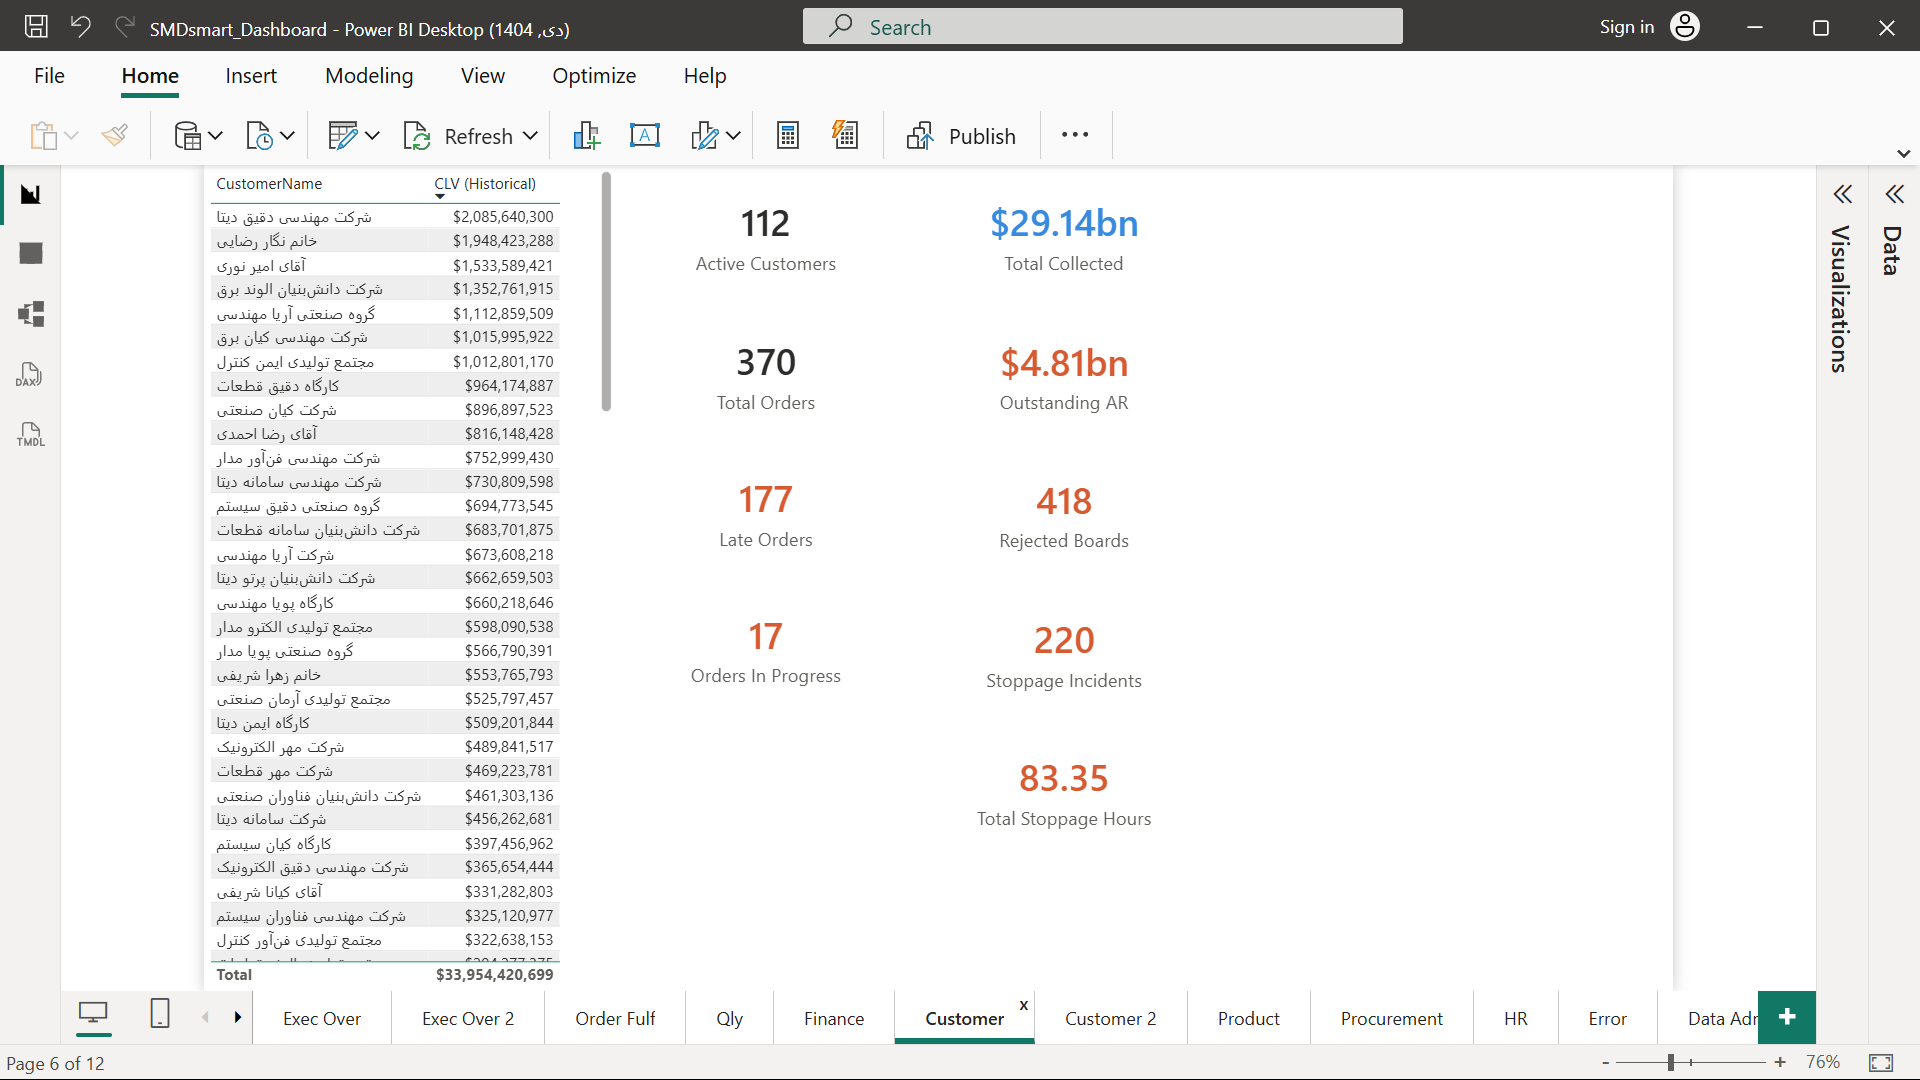

Layout of this report page (visuals, bound fields, positions):
{"tool":"powerbi","page":{"name":"Customer","canvas":[1280,720],"ordinal":5},"visuals":[{"type":"tableEx","fields":{"Values":["DimCustomer.CustomerName","_Measures (2).CLV (Historical)"]},"box":[0,0,360.1,720.2],"z":0},{"type":"card","fields":{"Values":["_Measures (2).Total Orders"]},"box":[360.1,121,260,119.5],"z":1000},{"type":"card","fields":{"Values":["_Measures (2).Active Customers"]},"box":[360.1,0,260,121],"z":2000},{"type":"card","fields":{"Values":["_Measures (2).Orders In Progress"]},"box":[360.1,360.1,260,121],"z":3000},{"type":"card","fields":{"Values":["_Measures (2).Outstanding AR"]},"box":[619.6,121,259.5,121],"z":4000},{"type":"card","fields":{"Values":["_Measures (2).Late Orders"]},"box":[360.1,240.5,260,121],"z":5000},{"type":"card","fields":{"Values":["_Measures (2).Total Collected"]},"box":[619.6,0,259.5,121],"z":6000},{"type":"card","fields":{"Values":["_Measures (2).Rejected Boards"]},"box":[619.6,242,259.5,121],"z":7000},{"type":"card","fields":{"Values":["_Measures (2).Stoppage Incidents"]},"box":[619.6,363,259.5,121],"z":8000},{"type":"card","fields":{"Values":["_Measures (2).Total Stoppage Hours"]},"box":[619.6,484,259.5,121],"z":9000}]}

Visuals, with their boxes on the page's 1280x720 design canvas (x1, y1, x2, y2). These are canvas units, not pixel positions in the 1920x1080 screenshot, which may show the page scaled, cropped or inside an application window:
tableEx - DimCustomer.CustomerName x _Measures (2).CLV (Historical): x1=0, y1=0, x2=360, y2=720
card - _Measures (2).Total Orders: x1=360, y1=121, x2=620, y2=240
card - _Measures (2).Active Customers: x1=360, y1=0, x2=620, y2=121
card - _Measures (2).Orders In Progress: x1=360, y1=360, x2=620, y2=481
card - _Measures (2).Outstanding AR: x1=620, y1=121, x2=879, y2=242
card - _Measures (2).Late Orders: x1=360, y1=240, x2=620, y2=362
card - _Measures (2).Total Collected: x1=620, y1=0, x2=879, y2=121
card - _Measures (2).Rejected Boards: x1=620, y1=242, x2=879, y2=363
card - _Measures (2).Stoppage Incidents: x1=620, y1=363, x2=879, y2=484
card - _Measures (2).Total Stoppage Hours: x1=620, y1=484, x2=879, y2=605
